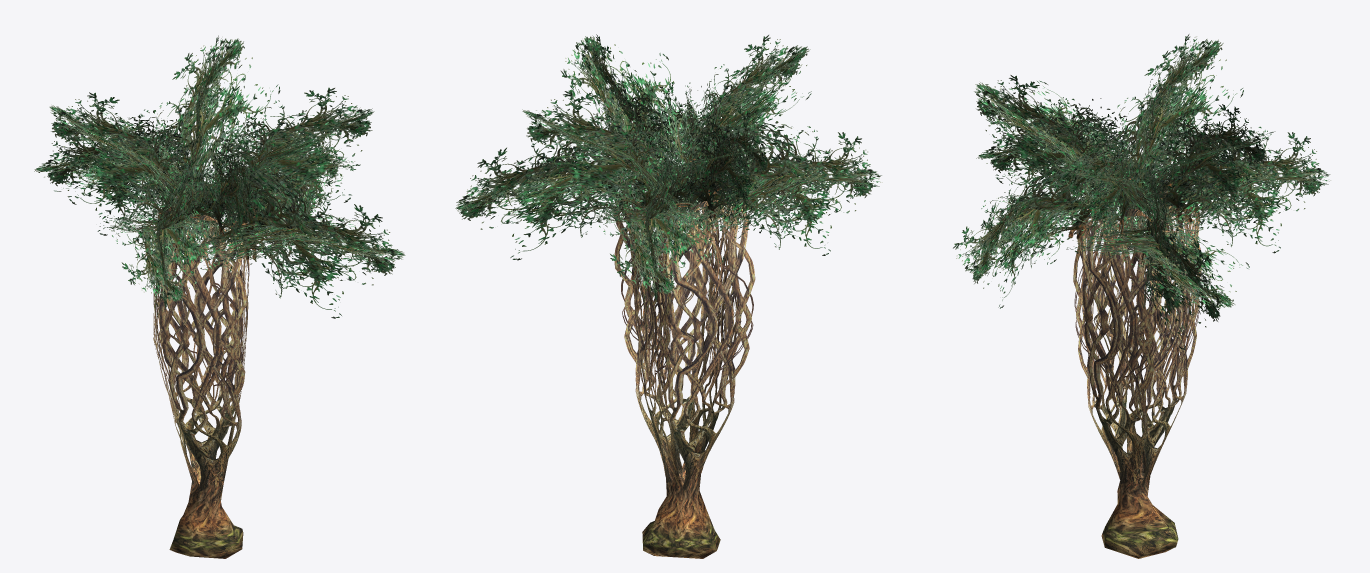
The model's file is decd_flutevine_a1_l0.fbx.
The picture shows the model from 3 angles, left to right: view 1: azimuth 30°, elevation 25°; view 2: azimuth 150°, elevation 25°; view 3: azimuth 270°, elevation 25°; orthographic projection. The views are drawn at different scales.
Visible parts, largest first — view 1: mesh_node; view 2: mesh_node; view 3: mesh_node.
Part boxes in pixels (x1,y1,x2,y2): mesh_node: [34, 35, 405, 558]; mesh_node: [455, 34, 882, 558]; mesh_node: [953, 34, 1330, 558].
Size of the model in its own units: 14.19 by 18.74 by 14.91.
